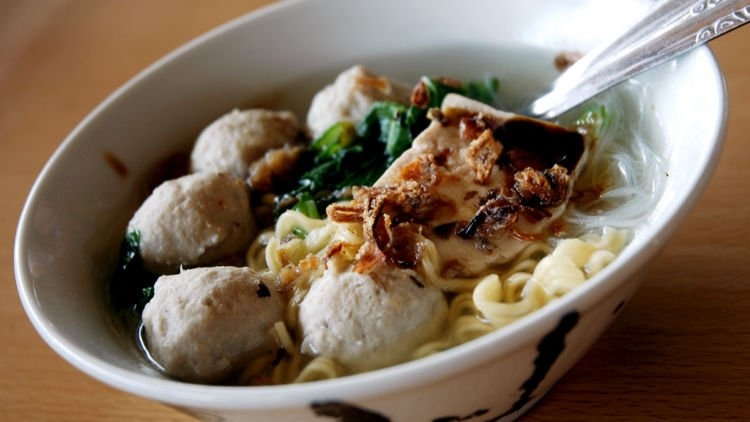bakso_malang: (103, 64, 656, 387)
